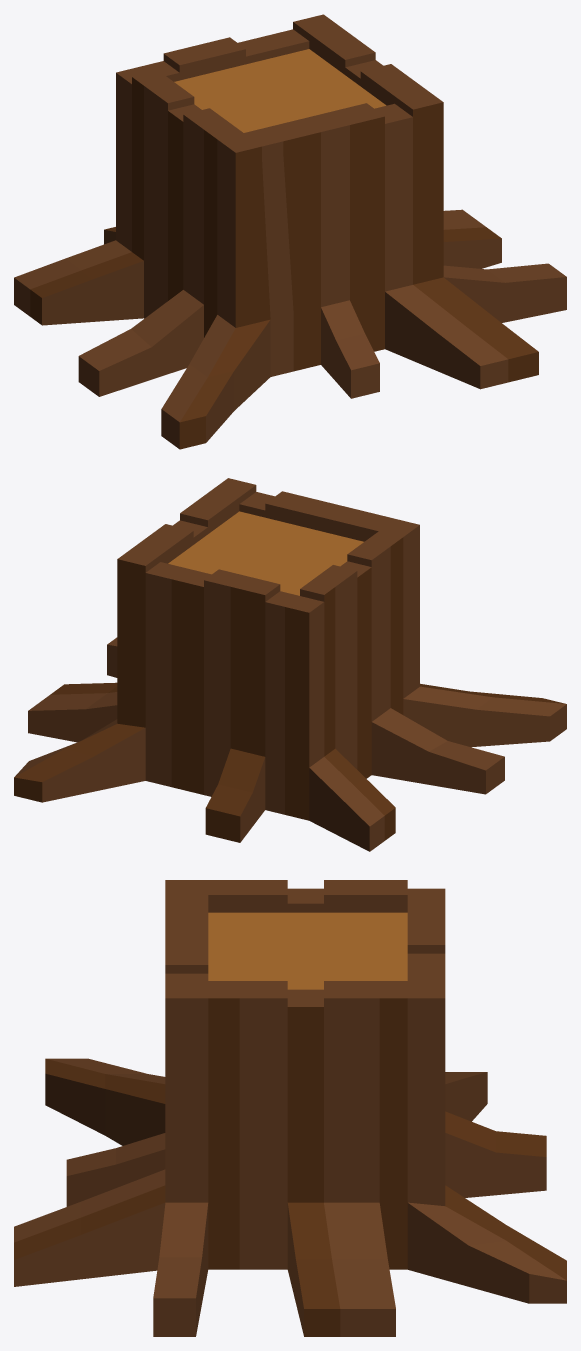
The model's file is kelmas.fbx.
3 renders of one model, top to bottom at view 1: azimuth 30°, elevation 25°; view 2: azimuth 150°, elevation 25°; view 3: azimuth 270°, elevation 25°, orthographic. The views are drawn at different scales.
Parts seen in each view (by area): view 1: kelmas; view 2: kelmas; view 3: kelmas.
Boxes of the visible parts, box(x1,y1,x2,y2) form: kelmas: box(14, 14, 566, 449); kelmas: box(14, 478, 566, 851); kelmas: box(14, 880, 566, 1336).
Bounding box in the file's own units: 424 × 214 × 395.
